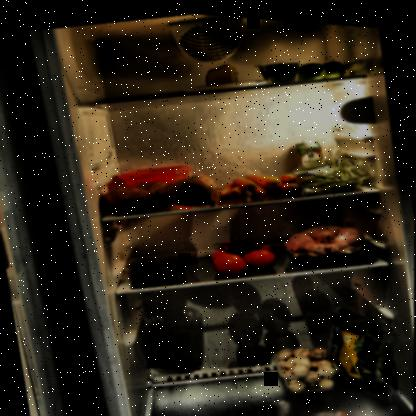blueberries: (128, 251, 192, 285)
butter: (114, 155, 199, 212)
carrot: (210, 159, 301, 206)
cheese: (201, 57, 242, 87)
chicken: (277, 208, 380, 272)
green_beans: (293, 141, 371, 193)
heavy_cream: (293, 133, 327, 180)
lime: (291, 49, 351, 80)
mushrooms: (267, 334, 339, 396)
spinach: (321, 292, 406, 408)
sweet_potato: (102, 165, 219, 224)
tomato: (201, 220, 281, 279)
